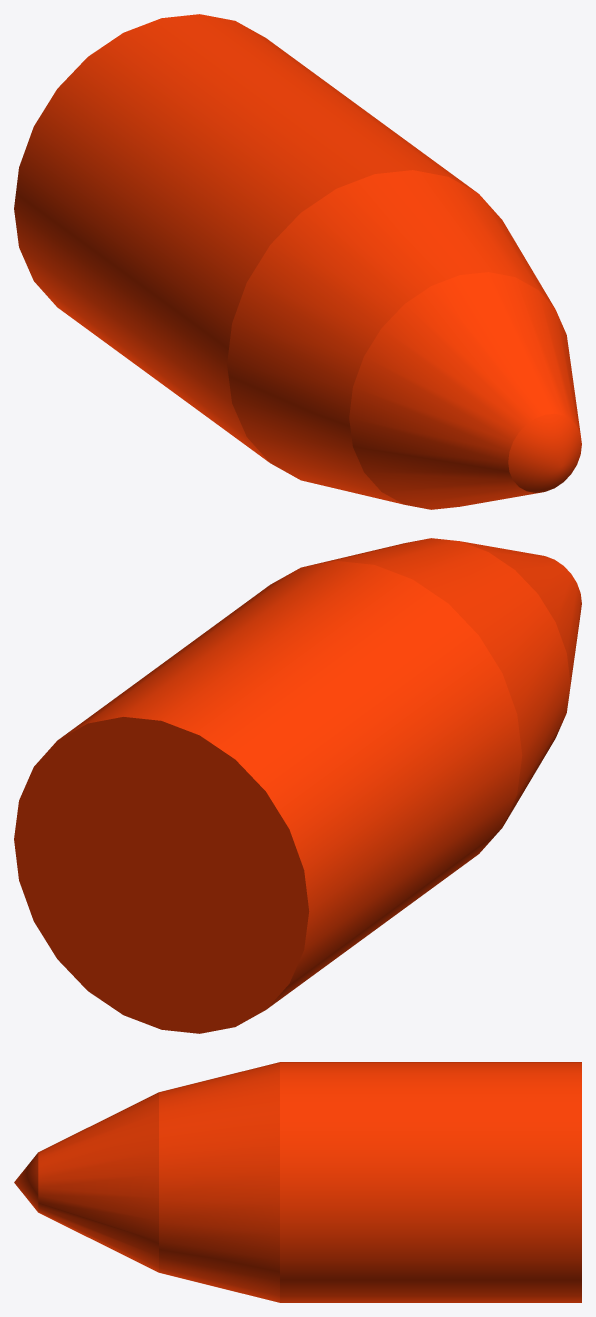
File: bullet.fbx
The picture shows the model from 3 angles, top to bottom: view 1: azimuth 30°, elevation 25°; view 2: azimuth 150°, elevation 25°; view 3: azimuth 270°, elevation 25°; orthographic projection. The views are drawn at different scales.
Parts seen in each view (by area): view 1: Group1; view 2: Group1; view 3: Group1.
Part boxes in pixels (bbox=[...]): Group1: bbox=[14, 14, 581, 509]; Group1: bbox=[14, 538, 581, 1033]; Group1: bbox=[14, 1062, 581, 1302].
Size of the model in its own units: 4 by 4 by 9.4.
